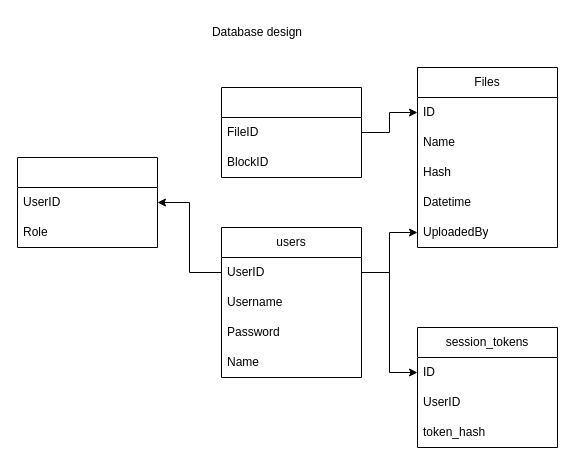
Some shapes in this 575 by 465 pixel diagram are drawn without their labels. Each missing label, with the box of its shape:
Blockchain file relation: (220, 86, 362, 178)
UserPermissions: (16, 156, 158, 248)
